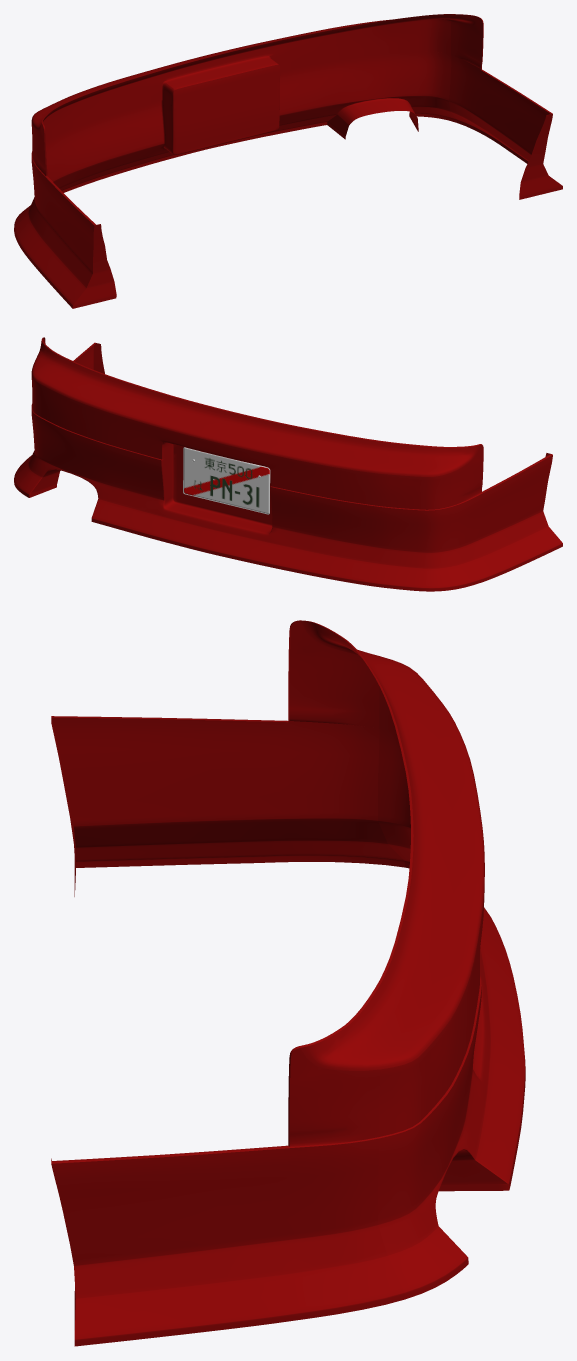
The model's file is rearbumper_dmax.glb.
3 views of the same model, one above another, from view 1: azimuth 30°, elevation 25°; view 2: azimuth 150°, elevation 25°; view 3: azimuth 270°, elevation 25° (orthographic). The views are drawn at different scales.
Parts seen in each view (by area): view 1: Bumper; view 2: Bumper, Plate; view 3: Bumper.
Boxes of the visible parts, x1,y1,x2,y2 form: Bumper: (14,14,562,308); Bumper: (14,337,562,591); Plate: (183,447,270,514); Bumper: (51,620,525,1346).
Bounding box in the file's own units: 1.79 × 0.4802 × 0.7515.
3 materials, 1 textured.
